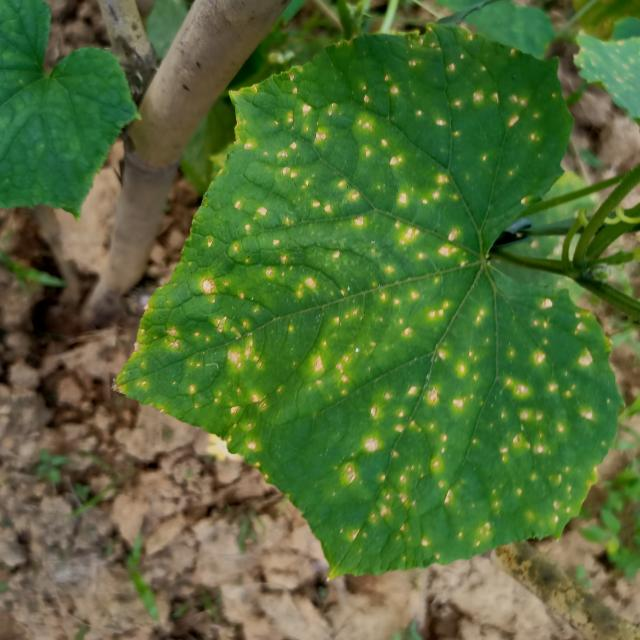disease_cucumber: (142, 41, 608, 563)
